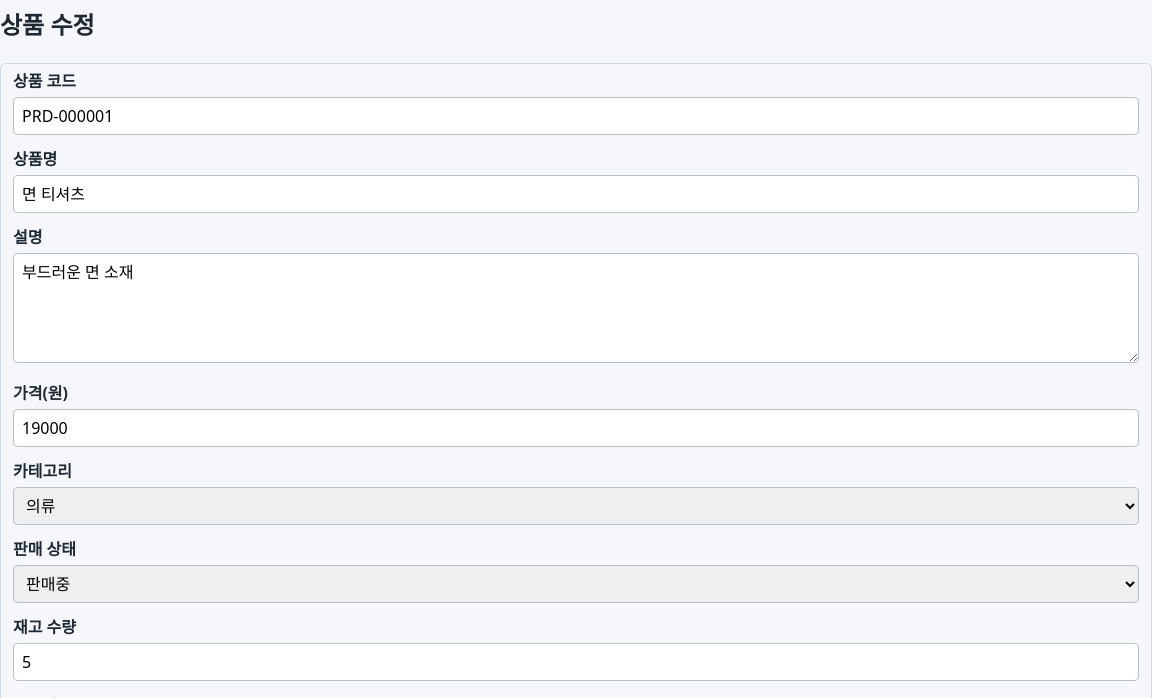
Test: 상품 수정 화면의 409 충돌 처리 › 저장 시 version을 함께 보내고, 409면 충돌 안내를 띄운 뒤 다시 불러오면 최신 내용으로 바뀐다
The width and height of the screenshot is (1152, 698).
Replace the text in the field labelled "상품명" with "내가 바꾼 이름" at (576, 194), box [13,175,1139,213]
(page scrolled)
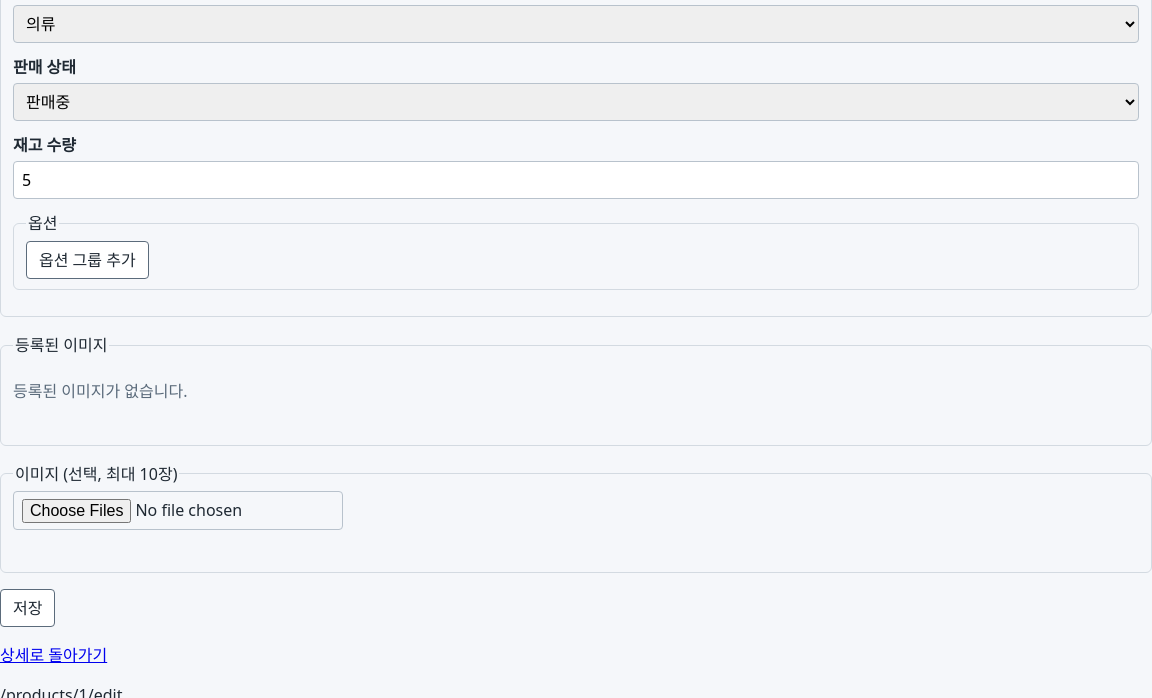
Click the button "저장" at (28, 608), box [0,589,56,627]
(page scrolled)
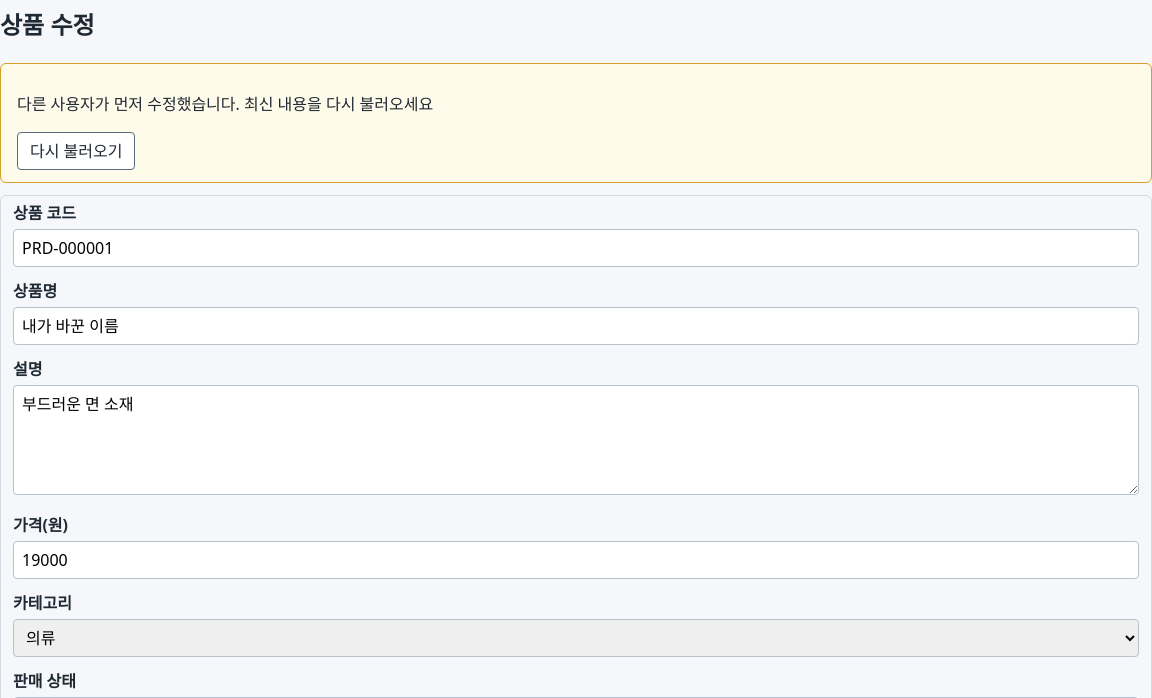
Now the message shows "다른 사용자가 먼저 수정했습니다. 최신 내용을 다시 불러오세요", box [17,93,433,115]
Click the button "다시 불러오기" at (76, 151), box [17,132,136,170]
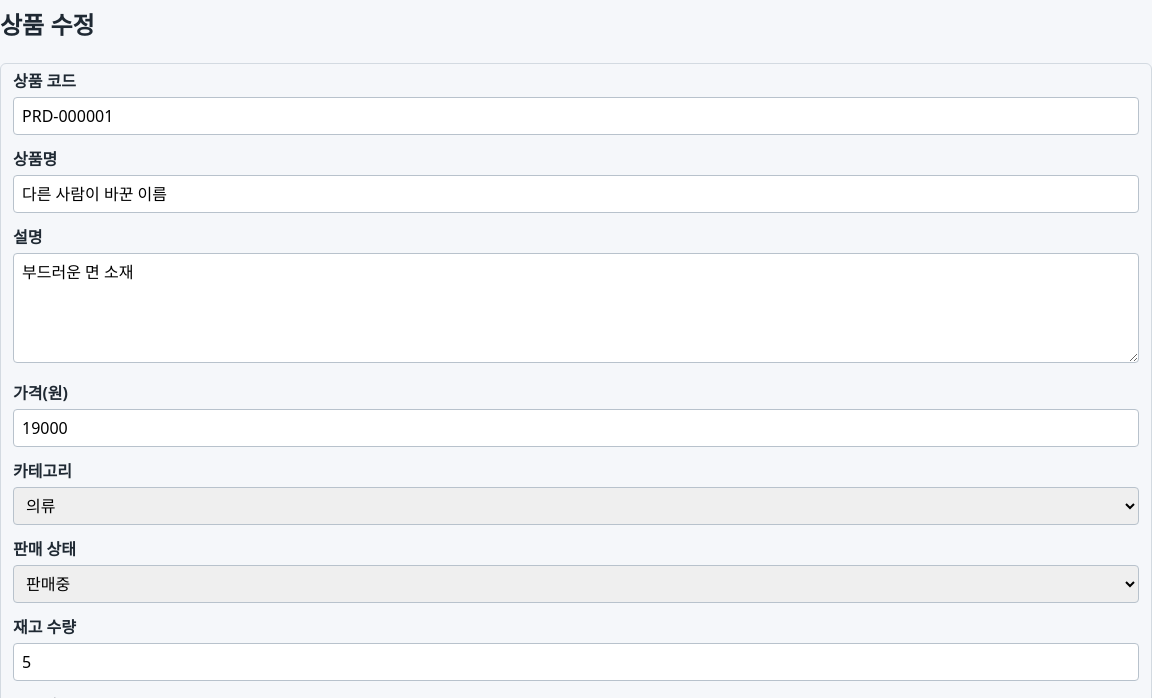
Now the field labelled "상품명" holds "다른 사람이 바꾼 이름", box [13,175,1139,213]
Now the text "다른 사용자가 먼저 수정했습니다. 최신 내용을 다시 불러오세요" is gone
